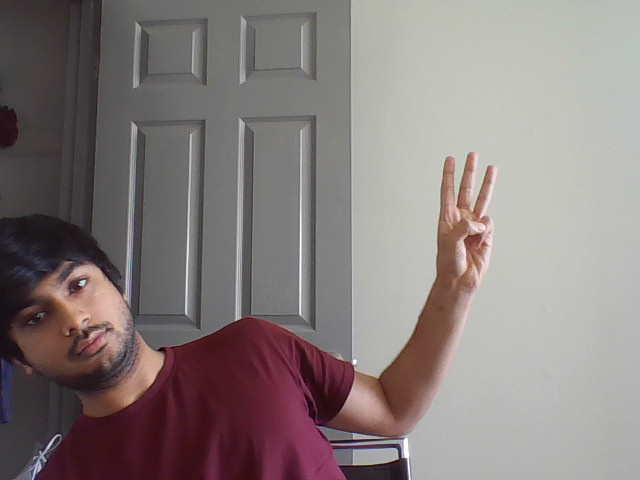three: (433, 146, 507, 226)
